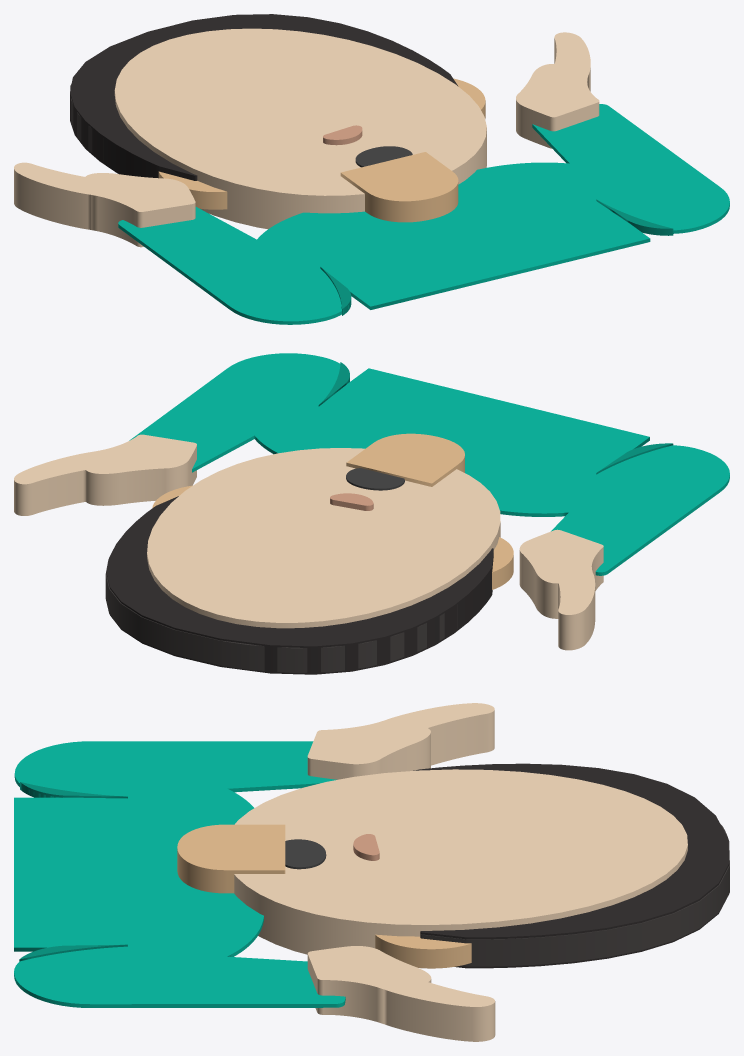
File: emoji_u1f937_1f3fb_200d_2642.glb
The picture shows the model from 3 angles, top to bottom: view 1: azimuth 30°, elevation 25°; view 2: azimuth 150°, elevation 25°; view 3: azimuth 270°, elevation 25°; orthographic projection. The views are drawn at different scales.
Parts seen in each view (by area): view 1: emoji_u1f937_1f3fb_200d_2642; view 2: emoji_u1f937_1f3fb_200d_2642; view 3: emoji_u1f937_1f3fb_200d_2642.
Part boxes in pixels (x1=…): emoji_u1f937_1f3fb_200d_2642: x1=14, y1=14, x2=729, y2=324; emoji_u1f937_1f3fb_200d_2642: x1=14, y1=353, x2=729, y2=674; emoji_u1f937_1f3fb_200d_2642: x1=14, y1=703, x2=729, y2=1041.
Size of the model in its own units: 0.0335 by 0.0028 by 0.0336.
